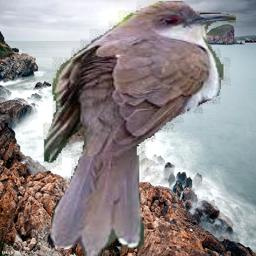Cuckoo: (42, 0, 236, 256)
